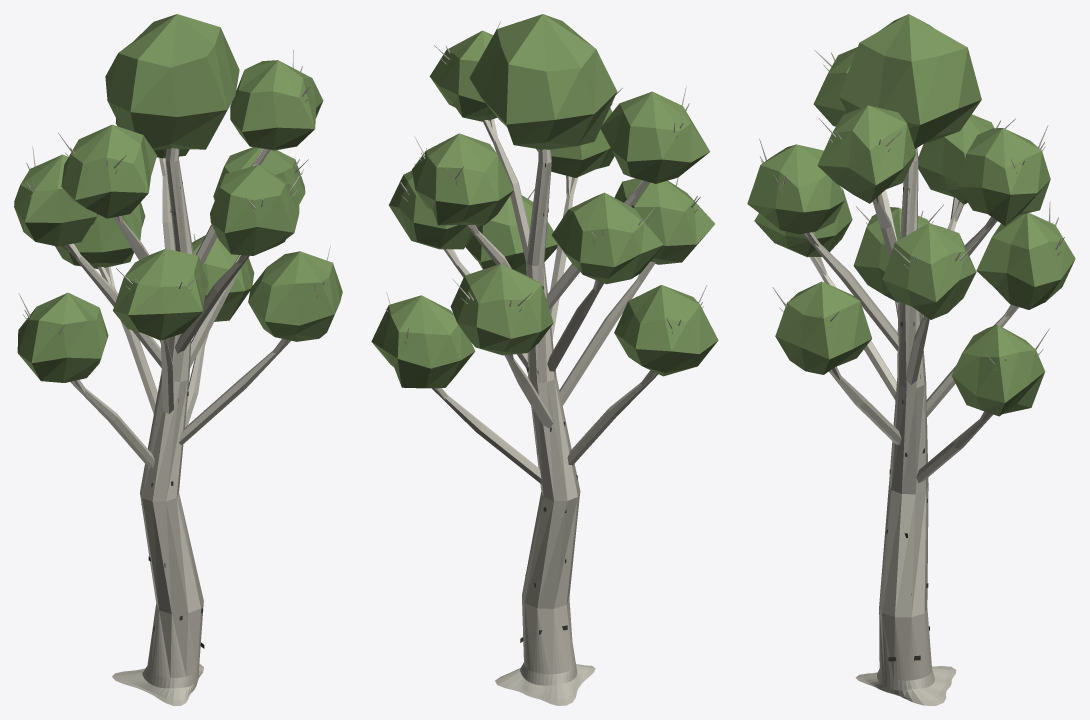
Rendered from birch_summer.glb.
3 views of the same model, side by side, from view 1: azimuth 30°, elevation 25°; view 2: azimuth 150°, elevation 25°; view 3: azimuth 270°, elevation 25° (orthographic).
Visible parts, largest first — view 1: leaves, branches; view 2: leaves, branches; view 3: leaves, branches.
Boxes of the visible parts, x1,y1,x2,y2 form: leaves: (14, 14, 342, 382); branches: (18, 50, 332, 705); leaves: (371, 14, 718, 388); branches: (385, 21, 706, 705); leaves: (747, 14, 1075, 416); branches: (759, 50, 1064, 705).
Size of the model in its own units: 2.7 by 5.7 by 2.51.
